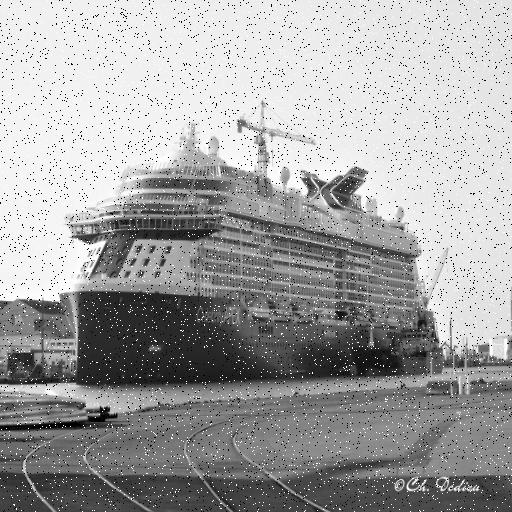cruises: (59, 107, 455, 378)
